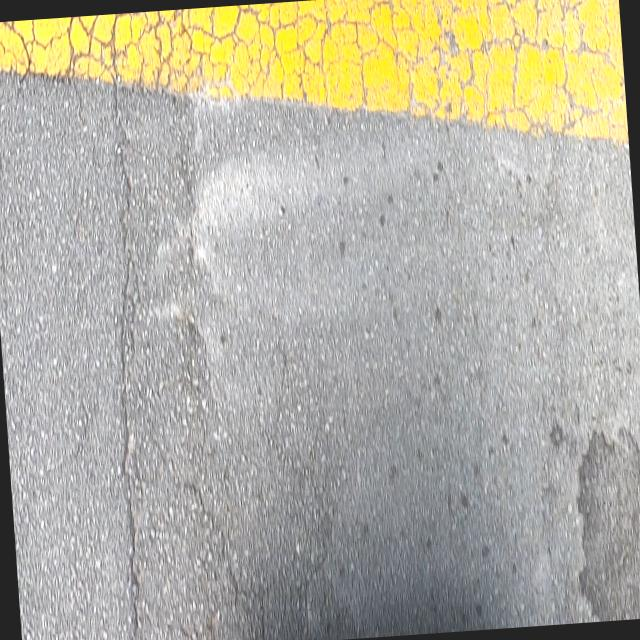Retak-Buaya: (0, 0, 624, 138)
Retak-Memanjang: (109, 86, 145, 640)
